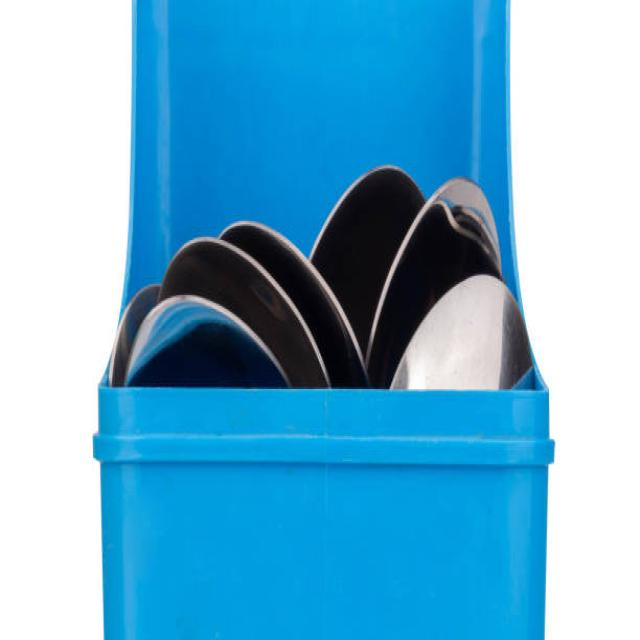metal: (143, 180, 495, 374)
